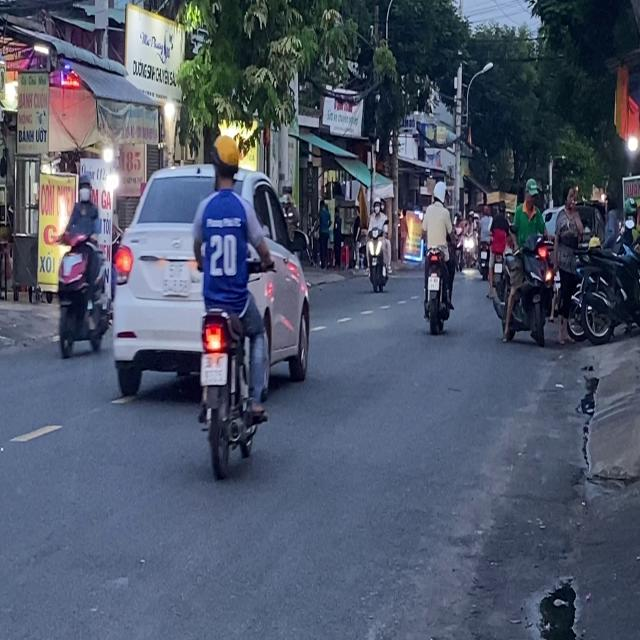helmet: (211, 132, 240, 187), (77, 172, 92, 202), (432, 180, 446, 202)
licenseplate: (191, 128, 273, 479), (52, 171, 110, 359), (502, 176, 554, 346), (419, 179, 455, 334)
motorcyclist: (524, 177, 540, 207)
nohelmet: (201, 353, 226, 384), (428, 275, 440, 290)
